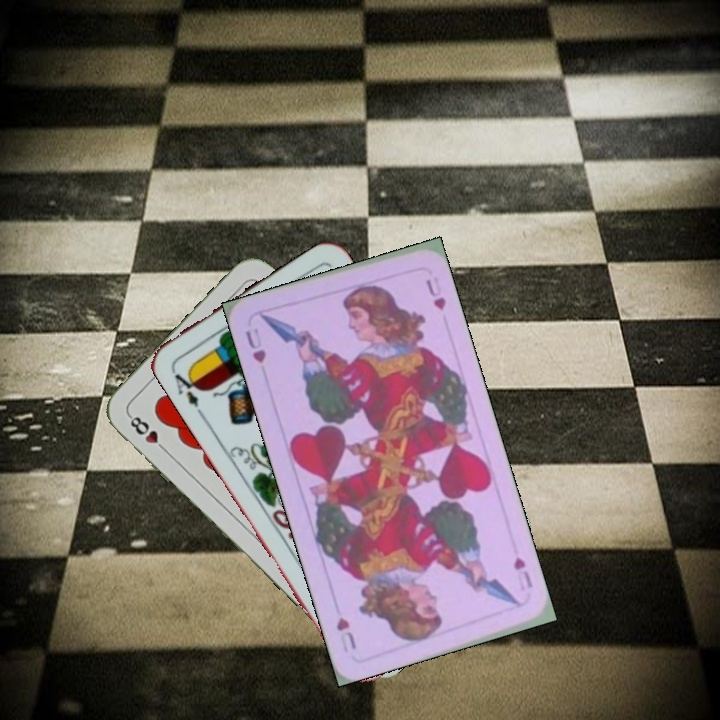EA: (167, 364, 206, 410)
H8: (125, 411, 172, 456)
HU: (241, 324, 269, 366), (509, 552, 536, 591)
